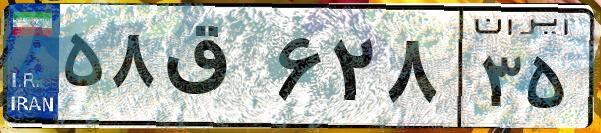2: (330, 28, 385, 110)
3: (475, 38, 525, 113)
5: (57, 26, 110, 100), (525, 38, 570, 115)
6: (270, 28, 330, 110)
8: (385, 28, 445, 110), (110, 28, 158, 98)
ق: (158, 20, 270, 120)
